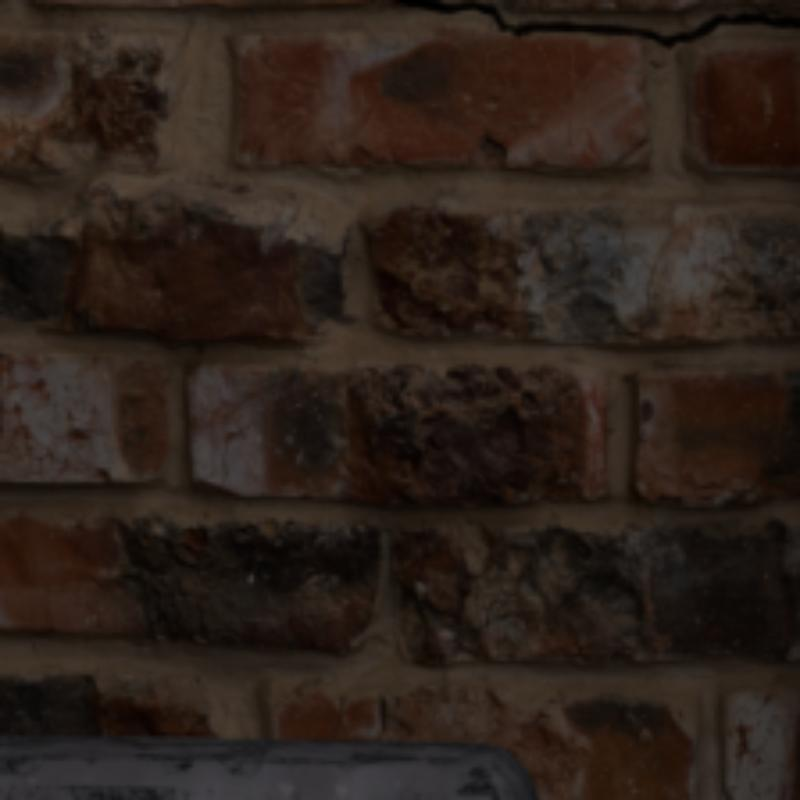pothole: (393, 0, 796, 46)
